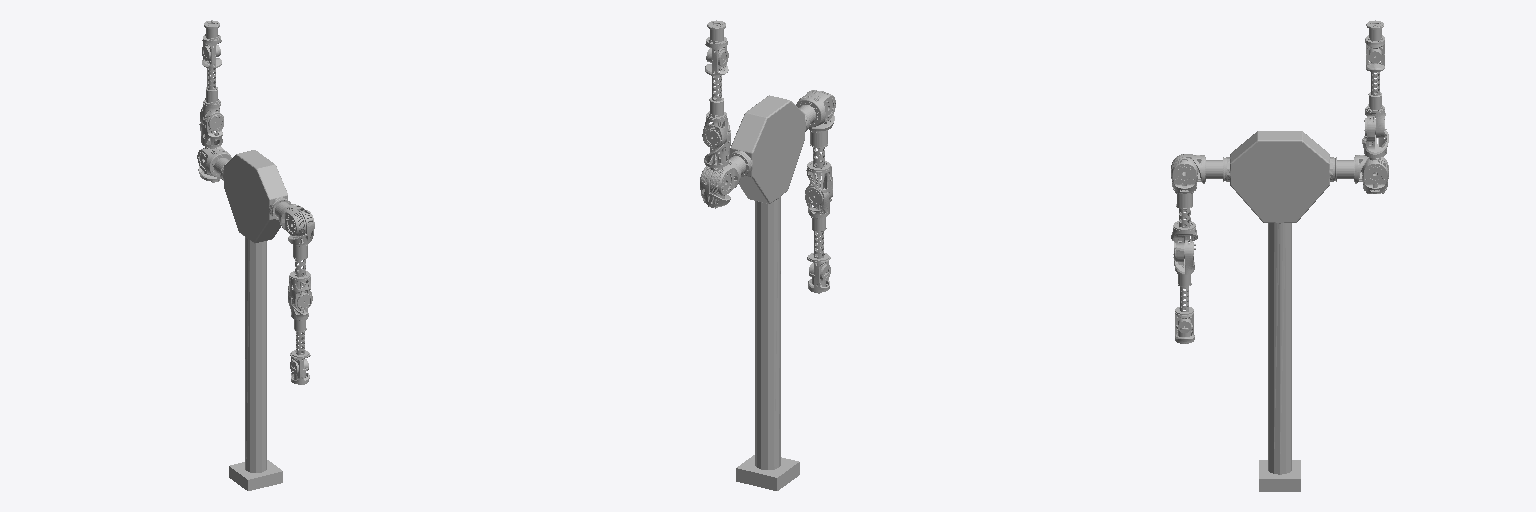
The robot description file, URDF, robot "HR-UP-7DOF-3KG-R-B01382-URDF-1029_CSV_LEFT_CANDIDATE_NOT_FOR_ROB":
<?xml version="1.0" encoding="utf-8"?>
<!--
  HR-UP-7DOF-3KG-R-B01382 修复版 (2026-10-30)
  双臂限位于2026-11-06按get_config内缩0.02rad与现场bridge对齐（左臂当日17:24先行，右臂18:1x补齐）。
  本包结构仿 SolidWorks 原始导出包 HR-UP-7DOF-3KG-R-B01382-URDF-1029。
  ROS2 包名: hr_up_7dof_fixed (原包名含 '-' 不符合 ROS 包名规范, 目录名保留原名风格)
  基于 SW 原始导出修正:
  1. mesh 路径改为 package://hr_up_7dof_fixed/meshes/ (自包含)
  2. 14 个关节限位从 0/0 修复为 ±2.967 rad (参考同类 7-DOF 臂)
     2b. 左臂 Joint1L~Joint7L 改用控制器 get_config 实测软限位并内缩 0.02rad
         (2026-11-06, 与 exton_bridge.py 的 LIVE_LIMITS_RAD 同值)；
         旧值 ±2.967 比真机宽, 会让 IK 目标越过 bridge 裁剪线而与真机失配。
         2c. 右臂 Joint1~Joint7 同日改用同表（控制器 get_config 18:10 原文：
             upper=[2.79,0.26,2.79,2.26,2.79,1.57,2.79]×2臂, lower=[-2.79,-2.3562,...]×2臂,
             双臂对称; 内缩 0.02rad 后即 LIVE_LIMITS_RAD），右臂不再特例。
  3. 新增 base_link 根节点 + 固定安装变换 rpy=(-pi/2,-pi/2,0), 抬高 1.244m:
     整体由装配倒伏姿态改为竖直站立 (背板底端落在 z=0 地面), 零位双臂自然下垂
  4. 左臂 Joint1L~Joint7L origin 按右臂严格镜像重写 (修复 SW 装配 frame 混乱;
     右臂 Joint1~7 与原文件逐字节一致, 运动学未动)
  5. 左臂 Link1L~6L visual/collision origin 加姿态补偿:
     Link1L/3L/4L 绕 z 翻 180°, Link2L/5L/6L 绕 x 翻 180°, Link7L 不补偿
  注意:
  - 左臂运动学定义已按镜像重写 (有意修正), 与厂商原始 URDF 左臂零位不同, 接实机需重新核对
  - 同目录下 csv 为原始 SW 导出数据表 (左臂 Joint Origin 列对应原始版, 不反映本修复)
  - launch/display.launch.py 为 ROS2 (Humble) 格式, 对应原包的 ROS1 display.launch
  启动: ros2 launch hr_up_7dof_fixed display.launch.py
-->

<!-- This URDF was automatically created by SolidWorks to URDF Exporter! Originally created by Stephen Brawner (brawner@gmail.com) 
     Commit Version: 1.6.0-4-g7f85cfe  Build Version: 1.6.7995.38578
     For more information, please see http://wiki.ros.org/sw_urdf_exporter -->
<robot
  name="HR-UP-7DOF-3KG-R-B01382-URDF-1029_CSV_LEFT_CANDIDATE_NOT_FOR_ROBOT">
  <!-- DIAGNOSTIC ONLY - CSV-derived left-arm candidate; NEVER deploy to a robot. -->
  <link
    name="base">
    <inertial>
      <origin
        xyz="-0.376387537826631 -2.62081733964732E-07 -5.55111512312578E-17"
        rpy="0 0 0" />
      <mass
        value="15.5223953670435" />
      <inertia
        ixx="0.0827074536468223"
        ixy="-1.34986564896919E-07"
        ixz="1.0704489838012E-08"
        iyy="3.14007278551179"
        iyz="1.60922064995619E-08"
        izz="3.0789407204689" />
    </inertial>
    <visual>
      <origin
        xyz="0 0 0"
        rpy="0 0 0" />
      <geometry>
        <mesh
          filename="package://hr_up_7dof_fixed/meshes/base.STL" />
      </geometry>
      <material
        name="">
        <color
          rgba="0.752941176470588 0.752941176470588 0.752941176470588 1" />
      </material>
    </visual>
    <collision>
      <origin
        xyz="0 0 0"
        rpy="0 0 0" />
      <geometry>
        <mesh
          filename="package://hr_up_7dof_fixed/meshes/base.STL" />
      </geometry>
    </collision>
  </link>
  <link
    name="Link1">
    <inertial>
      <origin
        xyz="-0.000591561365081261 0.00320427695188968 -0.0597144083302867"
        rpy="0 0 0" />
      <mass
        value="0.3678301641414" />
      <inertia
        ixx="0.000425320901492475"
        ixy="-7.43831250588063E-06"
        ixz="1.73516526916848E-06"
        iyy="0.000441015892976663"
        iyz="3.36458694906235E-05"
        izz="0.000368632561441053" />
    </inertial>
    <visual>
      <origin
        xyz="0 0 0"
        rpy="0 0 0" />
      <geometry>
        <mesh
          filename="package://hr_up_7dof_fixed/meshes/Link1.STL" />
      </geometry>
      <material
        name="">
        <color
          rgba="0.752941176470588 0.752941176470588 0.752941176470588 1" />
      </material>
    </visual>
    <collision>
      <origin
        xyz="0 0 0"
        rpy="0 0 0" />
      <geometry>
        <mesh
          filename="package://hr_up_7dof_fixed/meshes/Link1.STL" />
      </geometry>
    </collision>
  </link>
  <joint
    name="Joint1"
    type="revolute">
    <origin
      xyz="0 0 -0.194"
      rpy="0 0 -3.1416" />
    <parent
      link="base" />
    <child
      link="Link1" />
    <axis
      xyz="0 0 1" />
    <limit
      lower="-2.77"
      upper="2.77"
      effort="100"
      velocity="6.28" />
  </joint>
  <link
    name="Link2">
    <inertial>
      <origin
        xyz="0.0106774916647973 0.000181873071192117 -0.00314585862786001"
        rpy="0 0 0" />
      <mass
        value="0.359887026812365" />
      <inertia
        ixx="0.000364078688238279"
        ixy="-4.8947616519457E-06"
        ixz="-3.5627625592209E-05"
        iyy="0.000407149771176912"
        iyz="-5.2802785399217E-06"
        izz="0.000388015415520843" />
    </inertial>
    <visual>
      <origin
        xyz="0 0 0"
        rpy="0 0 0" />
      <geometry>
        <mesh
          filename="package://hr_up_7dof_fixed/meshes/Link2.STL" />
      </geometry>
      <material
        name="">
        <color
          rgba="0.752941176470588 0.752941176470588 0.752941176470588 1" />
      </material>
    </visual>
    <collision>
      <origin
        xyz="0 0 0"
        rpy="0 0 0" />
      <geometry>
        <mesh
          filename="package://hr_up_7dof_fixed/meshes/Link2.STL" />
      </geometry>
    </collision>
  </link>
  <joint
    name="Joint2"
    type="revolute">
    <origin
      xyz="0 0 -0.15"
      rpy="-1.5708 0 0" />
    <parent
      link="Link1" />
    <child
      link="Link2" />
    <axis
      xyz="0 0 1" />
    <limit
      lower="-2.3362"
      upper="0.24"
      effort="100"
      velocity="6.28" />
  </joint>
  <link
    name="Link3">
    <inertial>
      <origin
        xyz="-0.000794196663793553 0.00537395944616941 0.134802058258116"
        rpy="0 0 0" />
      <mass
        value="0.475618970663951" />
      <inertia
        ixx="0.000799740442003772"
        ixy="-1.33756853028561E-05"
        ixz="1.24883996932872E-05"
        iyy="0.000828828157757174"
        iyz="-8.93031147752984E-05"
        izz="0.000437142259604194" />
    </inertial>
    <visual>
      <origin
        xyz="0 0 0"
        rpy="0 0 0" />
      <geometry>
        <mesh
          filename="package://hr_up_7dof_fixed/meshes/Link3.STL" />
      </geometry>
      <material
        name="">
        <color
          rgba="0.752941176470588 0.752941176470588 0.752941176470588 1" />
      </material>
    </visual>
    <collision>
      <origin
        xyz="0 0 0"
        rpy="0 0 0" />
      <geometry>
        <mesh
          filename="package://hr_up_7dof_fixed/meshes/Link3.STL" />
      </geometry>
    </collision>
  </link>
  <joint
    name="Joint3"
    type="revolute">
    <origin
      xyz="0.078 0 0"
      rpy="0 1.5708 0" />
    <parent
      link="Link2" />
    <child
      link="Link3" />
    <axis
      xyz="0 0 1" />
    <limit
      lower="-2.77"
      upper="2.77"
      effort="100"
      velocity="6.28" />
  </joint>
  <link
    name="Link4">
    <inertial>
      <origin
        xyz="0.00975027962340019 0.000372530736054276 0.00176807760725375"
        rpy="0 0 0" />
      <mass
        value="0.242852964563248" />
      <inertia
        ixx="0.000174061578236843"
        ixy="-1.25255061120561E-06"
        ixz="1.89484096662568E-05"
        iyy="0.000202282981517127"
        iyz="4.0038167412235E-06"
        izz="0.000195723542295689" />
    </inertial>
    <visual>
      <origin
        xyz="0 0 0"
        rpy="0 0 0" />
      <geometry>
        <mesh
          filename="package://hr_up_7dof_fixed/meshes/Link4.STL" />
      </geometry>
      <material
        name="">
        <color
          rgba="0.752941176470588 0.752941176470588 0.752941176470588 1" />
      </material>
    </visual>
    <collision>
      <origin
        xyz="0 0 0"
        rpy="0 0 0" />
      <geometry>
        <mesh
          filename="package://hr_up_7dof_fixed/meshes/Link4.STL" />
      </geometry>
    </collision>
  </link>
  <joint
    name="Joint4"
    type="revolute">
    <origin
      xyz="0 0 0.247"
      rpy="1.5708 -1.5708 0" />
    <parent
      link="Link3" />
    <child
      link="Link4" />
    <axis
      xyz="0 0 1" />
    <limit
      lower="-0.67"
      upper="2.24"
      effort="100"
      velocity="6.28" />
  </joint>
  <link
    name="Link5">
    <inertial>
      <origin
        xyz="-0.00173646564193267 -0.000155248896045063 0.085325215516217"
        rpy="0 0 0" />
      <mass
        value="0.164930022113935" />
      <inertia
        ixx="0.000131461645150165"
        ixy="-3.15409086112128E-07"
        ixz="1.07948742726345E-05"
        iyy="0.00012690816108135"
        iyz="-3.22478075222191E-07"
        izz="7.70801421996649E-05" />
    </inertial>
    <visual>
      <origin
        xyz="0 0 0"
        rpy="0 0 0" />
      <geometry>
        <mesh
          filename="package://hr_up_7dof_fixed/meshes/Link5.STL" />
      </geometry>
      <material
        name="">
        <color
          rgba="0.752941176470588 0.752941176470588 0.752941176470588 1" />
      </material>
    </visual>
    <collision>
      <origin
        xyz="0 0 0"
        rpy="0 0 0" />
      <geometry>
        <mesh
          filename="package://hr_up_7dof_fixed/meshes/Link5.STL" />
      </geometry>
    </collision>
  </link>
  <joint
    name="Joint5"
    type="revolute">
    <origin
      xyz="0.0764 0 0"
      rpy="-1.5708 0 -1.5708" />
    <parent
      link="Link4" />
    <child
      link="Link5" />
    <axis
      xyz="0 0 1" />
    <limit
      lower="-2.77"
      upper="2.77"
      effort="100"
      velocity="6.28" />
  </joint>
  <link
    name="Link6">
    <inertial>
      <origin
        xyz="0.0104892045435304 -6.01581548683741E-07 -0.00249827064212885"
        rpy="0 0 0" />
      <mass
        value="0.144939847863476" />
      <inertia
        ixx="8.15130084253264E-05"
        ixy="8.96452380335651E-11"
        ixz="-9.52662365220613E-06"
        iyy="9.18496914142817E-05"
        iyz="-7.8124380683384E-09"
        izz="9.15415032724651E-05" />
    </inertial>
    <visual>
      <origin
        xyz="0 0 0"
        rpy="0 0 0" />
      <geometry>
        <mesh
          filename="package://hr_up_7dof_fixed/meshes/Link6.STL" />
      </geometry>
      <material
        name="">
        <color
          rgba="0.752941176470588 0.752941176470588 0.752941176470588 1" />
      </material>
    </visual>
    <collision>
      <origin
        xyz="0 0 0"
        rpy="0 0 0" />
      <geometry>
        <mesh
          filename="package://hr_up_7dof_fixed/meshes/Link6.STL" />
      </geometry>
    </collision>
  </link>
  <joint
    name="Joint6"
    type="revolute">
    <origin
      xyz="0 0 0.2136"
      rpy="3.1416 -1.5708 0" />
    <parent
      link="Link5" />
    <child
      link="Link6" />
    <axis
      xyz="0 0 1" />
    <limit
      lower="-1.55"
      upper="1.55"
      effort="100"
      velocity="6.28" />
  </joint>
  <link
    name="Link7">
    <inertial>
      <origin
        xyz="2.19232814873556E-05 -1.47941976487554E-14 -0.030661959391494"
        rpy="0 0 0" />
      <mass
        value="0.109001414834473" />
      <inertia
        ixx="4.14075002615855E-05"
        ixy="-6.38314363402727E-17"
        ixz="-1.50453859983565E-09"
        iyy="4.13169683262698E-05"
        iyz="1.05968065143206E-18"
        izz="3.74678725864852E-05" />
    </inertial>
    <visual>
      <origin
        xyz="0 0 0"
        rpy="0 0 0" />
      <geometry>
        <mesh
          filename="package://hr_up_7dof_fixed/meshes/Link7.STL" />
      </geometry>
      <material
        name="">
        <color
          rgba="0.752941176470588 0.752941176470588 0.752941176470588 1" />
      </material>
    </visual>
    <collision>
      <origin
        xyz="0 0 0"
        rpy="0 0 0" />
      <geometry>
        <mesh
          filename="package://hr_up_7dof_fixed/meshes/Link7.STL" />
      </geometry>
    </collision>
  </link>
  <joint
    name="Joint7"
    type="revolute">
    <origin
      xyz="0.0614 0 0"
      rpy="3.1416 -1.5708 0" />
    <parent
      link="Link6" />
    <child
      link="Link7" />
    <axis
      xyz="0 0 1" />
    <limit
      lower="-2.77"
      upper="2.77"
      effort="100"
      velocity="6.28" />
  </joint>
  <link
    name="Link1L">
    <inertial>
      <origin
        xyz="0.000591068125007005 -0.00320614565370185 0.0597092491486269"
        rpy="0 0 0" />
      <mass
        value="0.367808392323499" />
      <inertia
        ixx="0.000425416190274079"
        ixy="-7.47295603123382E-06"
        ixz="1.76208480664631E-06"
        iyy="0.000440933384413344"
        iyz="3.36490973531412E-05"
        izz="0.000368620190381941" />
    </inertial>
    <visual>
      <origin
        xyz="0 0 0"
        rpy="0 0 0" />
      <geometry>
        <mesh
          filename="package://hr_up_7dof_fixed/meshes/Link1L.STL" />
      </geometry>
      <material
        name="">
        <color
          rgba="0.752941176470588 0.752941176470588 0.752941176470588 1" />
      </material>
    </visual>
    <collision>
      <origin
        xyz="0 0 0"
        rpy="0 0 0" />
      <geometry>
        <mesh
          filename="package://hr_up_7dof_fixed/meshes/Link1L.STL" />
      </geometry>
    </collision>
  </link>
  <joint
    name="Joint1L"
    type="revolute">
    <origin
      xyz="0 0 0.194"
      rpy="0 0 0" />
    <parent
      link="base" />
    <child
      link="Link1L" />
    <axis
      xyz="0 0 1" />
    <limit
      lower="-2.77"
      upper="2.77"
      effort="100"
      velocity="6.28" />
  </joint>
  <link
    name="Link2L">
    <inertial>
      <origin
        xyz="0.0106916763035278 -0.000173514284543597 -0.00314337977356001"
        rpy="0 0 0" />
      <mass
        value="0.360190520660374" />
      <inertia
        ixx="0.000364591449298305"
        ixy="4.94144689154542E-06"
        ixz="-3.56591377652058E-05"
        iyy="0.000407564307943435"
        iyz="5.73694745583767E-06"
        izz="0.000388210543299227" />
    </inertial>
    <visual>
      <origin
        xyz="0 0 0"
        rpy="0 0 0" />
      <geometry>
        <mesh
          filename="package://hr_up_7dof_fixed/meshes/Link2L.STL" />
      </geometry>
      <material
        name="">
        <color
          rgba="0.752941176470588 0.752941176470588 0.752941176470588 1" />
      </material>
    </visual>
    <collision>
      <origin
        xyz="0 0 0"
        rpy="0 0 0" />
      <geometry>
        <mesh
          filename="package://hr_up_7dof_fixed/meshes/Link2L.STL" />
      </geometry>
    </collision>
  </link>
  <joint
    name="Joint2L"
    type="revolute">
    <origin
      xyz="0 0 0.15"
      rpy="-1.5708 0 -3.1416" />
    <parent
      link="Link1L" />
    <child
      link="Link2L" />
    <axis
      xyz="0 0 1" />
    <limit
      lower="-2.3362"
      upper="0.24"
      effort="100"
      velocity="6.28" />
  </joint>
  <link
    name="Link3L">
    <inertial>
      <origin
        xyz="0.000291402112978737 -0.00196958841242456 -0.0728636028996557"
        rpy="0 0 0" />
      <mass
        value="0.463736306643499" />
      <inertia
        ixx="0.000462341211893298"
        ixy="-4.75913095840478E-06"
        ixz="4.43462921065407E-06"
        iyy="0.000472657085301201"
        iyz="-3.18762134085855E-05"
        izz="0.000282811922628424" />
    </inertial>
    <visual>
      <origin
        xyz="0 0 0"
        rpy="0 0 0" />
      <geometry>
        <mesh
          filename="package://hr_up_7dof_fixed/meshes/Link3L.STL" />
      </geometry>
      <material
        name="">
        <color
          rgba="0.752941176470588 0.752941176470588 0.752941176470588 1" />
      </material>
    </visual>
    <collision>
      <origin
        xyz="0 0 0"
        rpy="0 0 0" />
      <geometry>
        <mesh
          filename="package://hr_up_7dof_fixed/meshes/Link3L.STL" />
      </geometry>
    </collision>
  </link>
  <joint
    name="Joint3L"
    type="revolute">
    <origin
      xyz="0.078 0 0"
      rpy="3.1416 -1.5708 0" />
    <parent
      link="Link2L" />
    <child
      link="Link3L" />
    <axis
      xyz="0 0 1" />
    <limit
      lower="-2.77"
      upper="2.77"
      effort="100"
      velocity="6.28" />
  </joint>
  <link
    name="Link4L">
    <inertial>
      <origin
        xyz="-0.0119883718049398 -0.000368727861447744 -0.00170902169505127"
        rpy="0 0 0" />
      <mass
        value="0.251287299257852" />
      <inertia
        ixx="0.000180409145644291"
        ixy="-1.25565370114981E-06"
        ixz="1.89477793444068E-05"
        iyy="0.000205668219800651"
        iyz="4.0048243373935E-06"
        izz="0.000198784367983275" />
    </inertial>
    <visual>
      <origin
        xyz="0 0 0"
        rpy="0 0 0" />
      <geometry>
        <mesh
          filename="package://hr_up_7dof_fixed/meshes/Link4L.STL" />
      </geometry>
      <material
        name="">
        <color
          rgba="0.752941176470588 0.752941176470588 0.752941176470588 1" />
      </material>
    </visual>
    <collision>
      <origin
        xyz="0 0 0"
        rpy="0 0 0" />
      <geometry>
        <mesh
          filename="package://hr_up_7dof_fixed/meshes/Link4L.STL" />
      </geometry>
    </collision>
  </link>
  <joint
    name="Joint4L"
    type="revolute">
    <origin
      xyz="0 0 -0.247"
      rpy="1.5708 -1.5708 0" />
    <parent
      link="Link3L" />
    <child
      link="Link4L" />
    <axis
      xyz="0 0 1" />
    <limit
      lower="-0.67"
      upper="2.24"
      effort="100"
      velocity="6.28" />
  </joint>
  <link
    name="Link5L">
    <inertial>
      <origin
        xyz="-0.00100467282479264 -4.79644483286634E-06 0.085510953152942"
        rpy="0 0 0" />
      <mass
        value="0.181003333976795" />
      <inertia
        ixx="0.000163213034772374"
        ixy="3.85976771242943E-09"
        ixz="1.20600878753708E-05"
        iyy="0.000158585869850887"
        iyz="1.37490765624317E-08"
        izz="8.03502776037416E-05" />
    </inertial>
    <visual>
      <origin
        xyz="0 0 0"
        rpy="0 0 0" />
      <geometry>
        <mesh
          filename="package://hr_up_7dof_fixed/meshes/Link5L.STL" />
      </geometry>
      <material
        name="">
        <color
          rgba="0.752941176470588 0.752941176470588 0.752941176470588 1" />
      </material>
    </visual>
    <collision>
      <origin
        xyz="0 0 0"
        rpy="0 0 0" />
      <geometry>
        <mesh
          filename="package://hr_up_7dof_fixed/meshes/Link5L.STL" />
      </geometry>
    </collision>
  </link>
  <joint
    name="Joint5L"
    type="revolute">
    <origin
      xyz="-0.0764 0 0"
      rpy="-1.5708 0 1.5708" />
    <parent
      link="Link4L" />
    <child
      link="Link5L" />
    <axis
      xyz="0 0 1" />
    <limit
      lower="-2.77"
      upper="2.77"
      effort="100"
      velocity="6.28" />
  </joint>
  <link
    name="Link6L">
    <inertial>
      <origin
        xyz="0.0104891683938672 -1.97967034498703E-06 -0.00250386103688268"
        rpy="0 0 0" />
      <mass
        value="0.144937188619048" />
      <inertia
        ixx="8.14957394470242E-05"
        ixy="-2.61420415198823E-09"
        ixz="-9.5320714728717E-06"
        iyy="9.18324710875711E-05"
        iyz="-5.19124219824279E-09"
        izz="9.15405048786224E-05" />
    </inertial>
    <visual>
      <origin
        xyz="0 0 0"
        rpy="0 0 0" />
      <geometry>
        <mesh
          filename="package://hr_up_7dof_fixed/meshes/Link6L.STL" />
      </geometry>
      <material
        name="">
        <color
          rgba="0.752941176470588 0.752941176470588 0.752941176470588 1" />
      </material>
    </visual>
    <collision>
      <origin
        xyz="0 0 0"
        rpy="0 0 0" />
      <geometry>
        <mesh
          filename="package://hr_up_7dof_fixed/meshes/Link6L.STL" />
      </geometry>
    </collision>
  </link>
  <joint
    name="Joint6L"
    type="revolute">
    <origin
      xyz="0 0 0.2136"
      rpy="3.1416 -1.5708 0" />
    <parent
      link="Link5L" />
    <child
      link="Link6L" />
    <axis
      xyz="0 0 1" />
    <limit
      lower="-1.55"
      upper="1.55"
      effort="100"
      velocity="6.28" />
  </joint>
  <link
    name="Link7L">
    <inertial>
      <origin
        xyz="-2.77477901810855E-18 2.19232814882009E-05 0.0306619593914942"
        rpy="0 0 0" />
      <mass
        value="0.109001414834473" />
      <inertia
        ixx="4.13169683262697E-05"
        ixy="2.06124633919894E-23"
        ixz="-2.18524227207288E-22"
        iyy="4.14075002615854E-05"
        iyz="1.50453859983735E-09"
        izz="3.7467872586485E-05" />
    </inertial>
    <visual>
      <origin
        xyz="0 0 0"
        rpy="0 0 0" />
      <geometry>
        <mesh
          filename="package://hr_up_7dof_fixed/meshes/Link7L.STL" />
      </geometry>
      <material
        name="">
        <color
          rgba="0.752941176470588 0.752941176470588 0.752941176470588 1" />
      </material>
    </visual>
    <collision>
      <origin
        xyz="0 0 0"
        rpy="0 0 0" />
      <geometry>
        <mesh
          filename="package://hr_up_7dof_fixed/meshes/Link7L.STL" />
      </geometry>
    </collision>
  </link>
  <joint
    name="Joint7L"
    type="revolute">
    <origin
      xyz="0.0614 0 0"
      rpy="0 1.5708 0" />
    <parent
      link="Link6L" />
    <child
      link="Link7L" />
    <axis
      xyz="0 0 1" />
    <limit
      lower="-2.77"
      upper="2.77"
      effort="100"
      velocity="6.28" />
  </joint>
  <link name="base_link" />
  <joint name="base_link_to_base" type="fixed">
    <origin
      xyz="0 0 1.244"
      rpy="-1.5708 -1.5708 0" />
    <parent
      link="base_link" />
    <child
      link="base" />
  </joint>
</robot>

--- Facts derived from the render (not from the file) ---
3 views of the same robot in one strip: view 1: azimuth 30°, elevation 25°; view 2: azimuth 150°, elevation 25°; view 3: azimuth 270°, elevation 25° (orthographic).
Robot: HR-UP-7DOF-3KG-R-B01382-URDF-1029_CSV_LEFT_CANDIDATE_NOT_FOR_ROB — 16 links, 15 joints (14 revolute, 1 fixed); root link base_link; default pose: every joint at zero.
Links seen in each view (by area): view 1: base, Link3, Link1, Link1L, Link3L, Link5L, Link5, Link2; view 2: base, Link3, Link1, Link1L, Link5L, Link5, Link4L, Link2L, Link4, Link3L; view 3: base, Link3, Link2, Link2L, Link3L, Link1, Link5L, Link1L, Link5.
Boxes of the visible links, x1,y1,x2,y2 form: base: (220, 150, 291, 490); Link3: (288, 239, 312, 310); Link1: (275, 202, 305, 235); Link1L: (197, 147, 231, 176); Link3L: (199, 111, 223, 175); Link5L: (202, 44, 221, 103); Link5: (290, 319, 310, 375); Link2: (288, 210, 314, 246); base: (729, 95, 809, 490); Link3: (806, 124, 832, 199); Link1: (796, 91, 835, 126); Link1L: (710, 156, 745, 195); Link5L: (705, 48, 728, 116); Link5: (807, 212, 830, 281); Link4L: (702, 111, 729, 148); Link2L: (700, 166, 730, 208); Link4: (805, 183, 831, 219); Link3L: (704, 123, 730, 201); base: (1223, 131, 1336, 491); Link3: (1171, 186, 1197, 261); Link2: (1171, 157, 1197, 193); Link2L: (1362, 158, 1388, 193); Link3L: (1362, 116, 1388, 187); Link1: (1171, 154, 1222, 183); Link5L: (1366, 47, 1384, 109); Link1L: (1337, 155, 1388, 183); Link5: (1175, 274, 1193, 329).
Bounding box of the posed robot: 0.1598 × 0.7879 × 1.82 m (x, y, z).
15 mesh visuals loaded from 15 distinct referenced files (15 binary STL).
